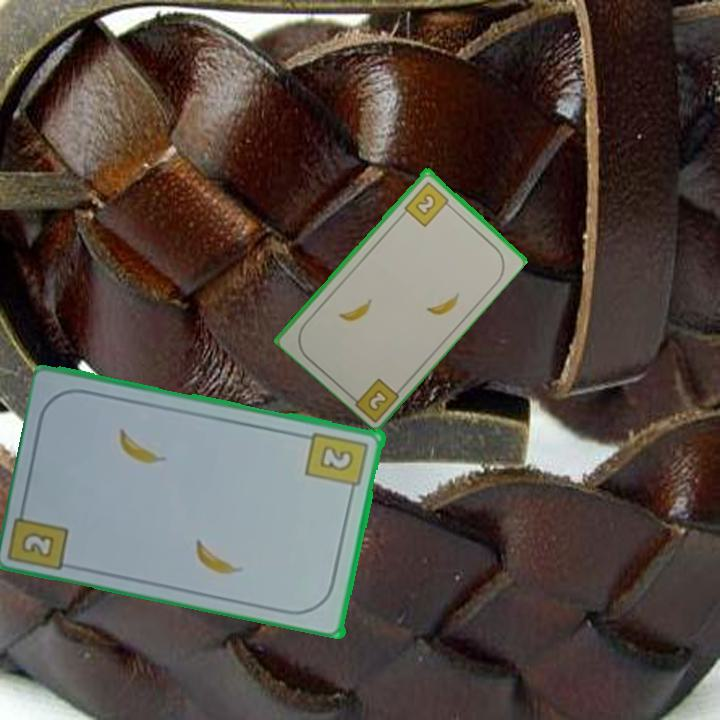2b: (303, 428, 372, 498), (401, 177, 455, 229), (18, 528, 58, 561), (364, 385, 391, 414)
